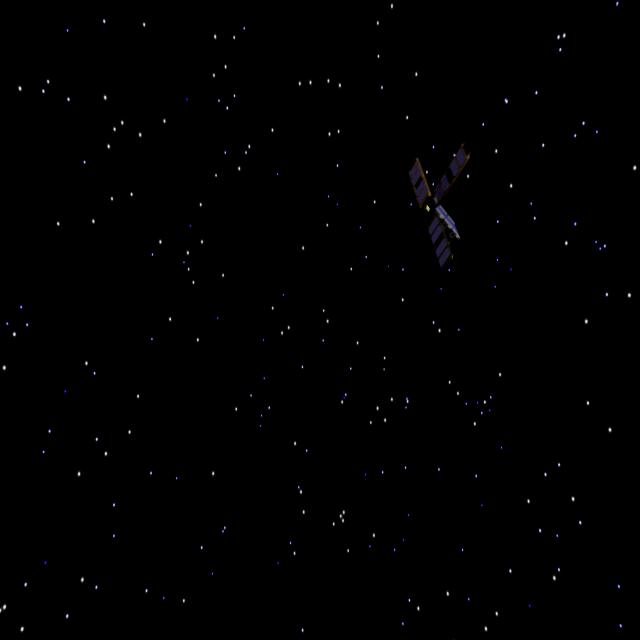satellite: (379, 140, 475, 282)
